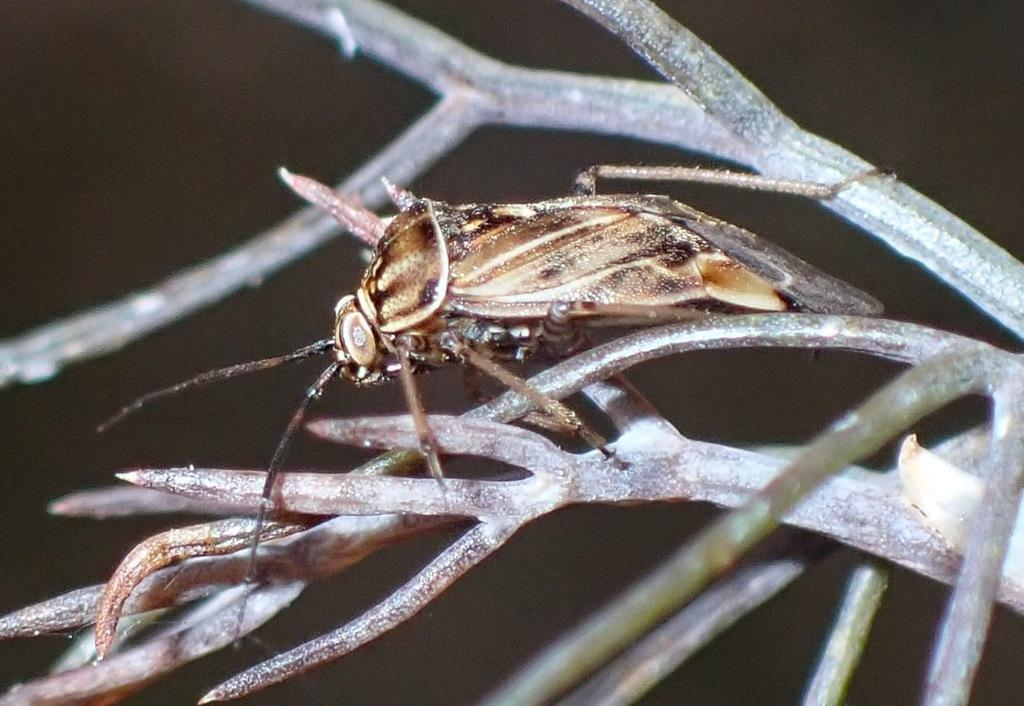plant_bugs: (37, 101, 1005, 627)
